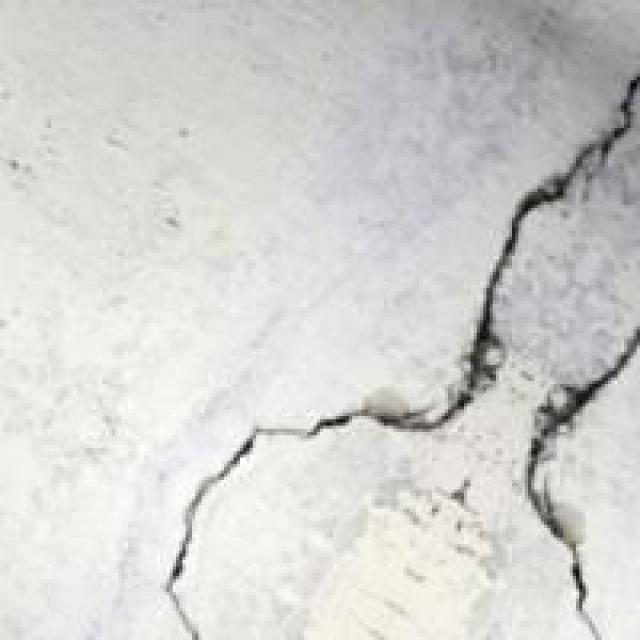crack: (160, 61, 637, 637)
